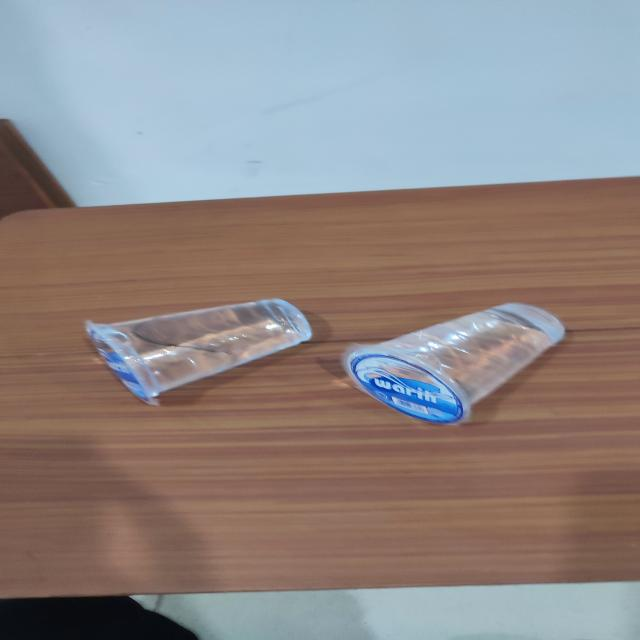air gelas: (342, 300, 597, 428), (72, 293, 319, 405)
